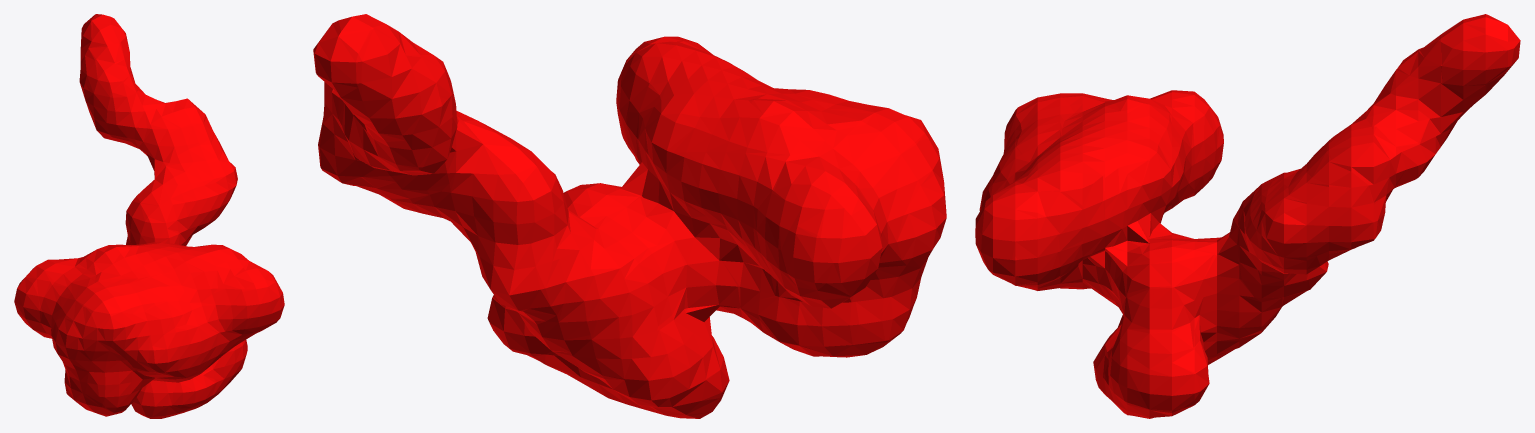
The model's file is ratB_coarse.dae.
The picture shows the model from 3 angles, left to right: view 1: azimuth 30°, elevation 25°; view 2: azimuth 150°, elevation 25°; view 3: azimuth 270°, elevation 25°; orthographic projection. The views are drawn at different scales.
Visible parts, largest first — view 1: ratB; view 2: ratB; view 3: ratB.
Boxes of the visible parts, bbox=[...] form: ratB: bbox=[14, 14, 284, 418]; ratB: bbox=[313, 14, 946, 418]; ratB: bbox=[975, 14, 1520, 418].
Size of the model in its own units: 50 by 55.61 by 64.95.
